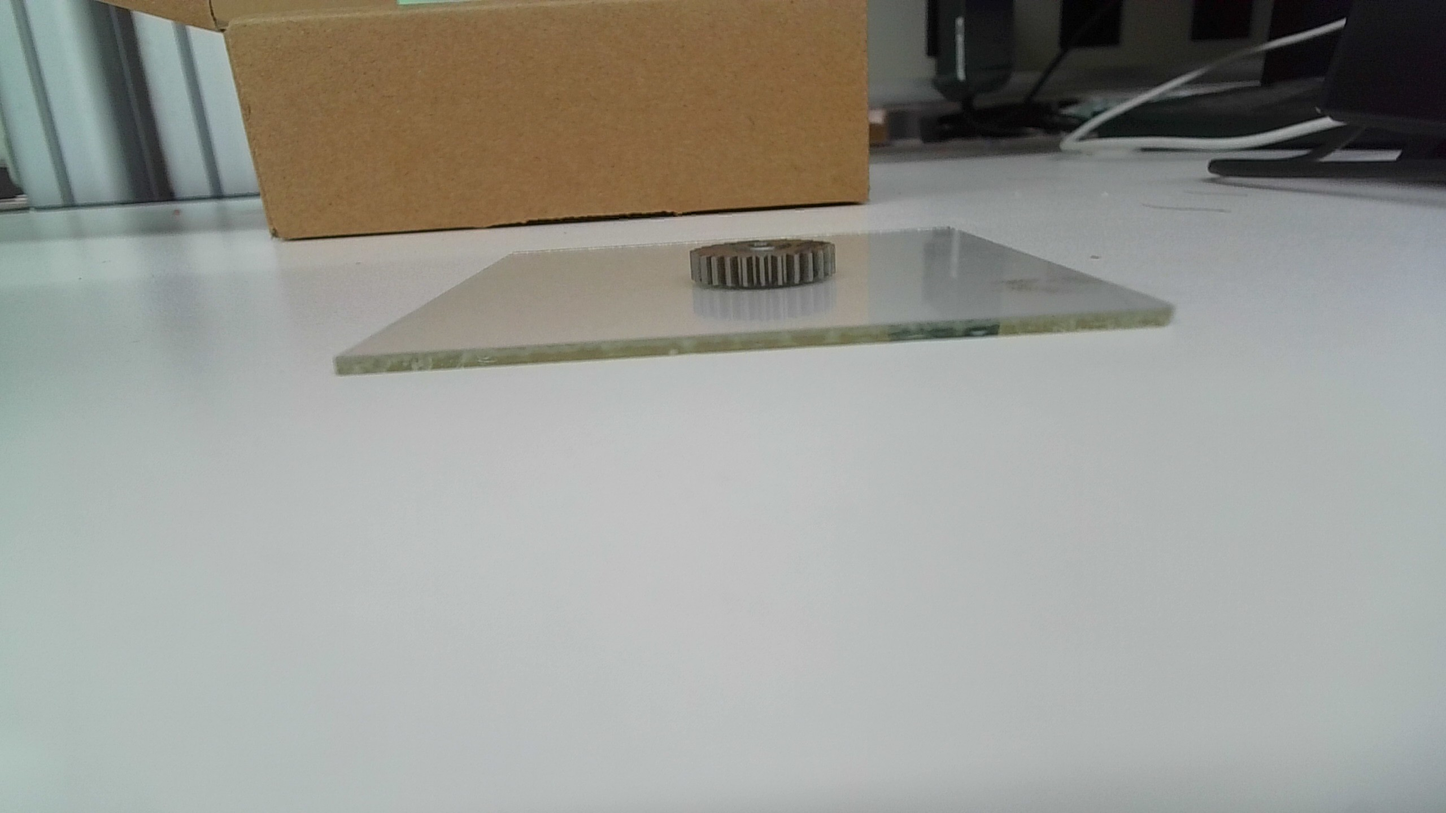gear: (689, 238, 842, 294)
